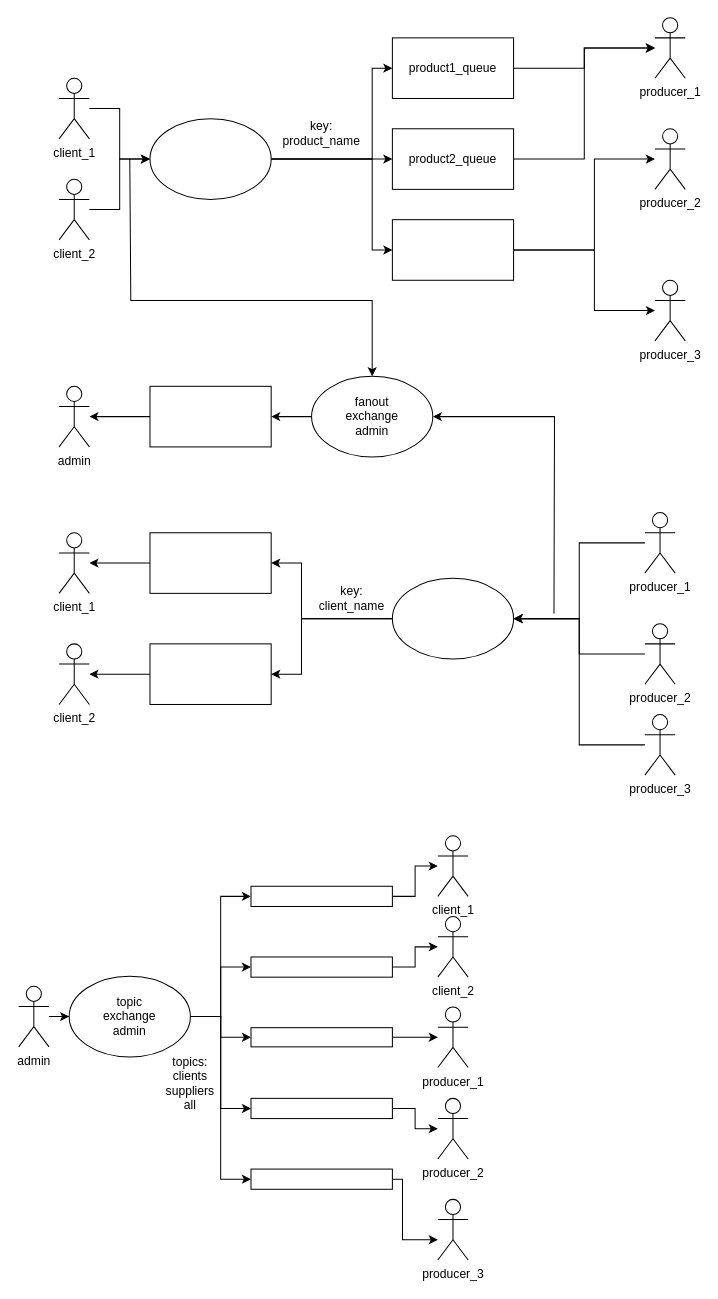
This 718x1299 diagram has some shape labels left out. Here are the shapes that lost their labels. From the top down, the centre of each, then its label:
At (x=210, y=158): "direct exchange product".
At (x=452, y=249): "product3_queue".
At (x=210, y=416): "admin monitoring queue".
At (x=210, y=562): "client1_queue".
At (x=452, y=618): "direct exchange confirmation".
At (x=210, y=673): "client2_queue".
At (x=321, y=895): "client1_admin_queue".
At (x=321, y=966): "client2_admin_queue".
At (x=321, y=1037): "producer1_admin_queue".
At (x=321, y=1108): "producer2_admin_queue".
At (x=321, y=1178): "producer3_admin_queue".
